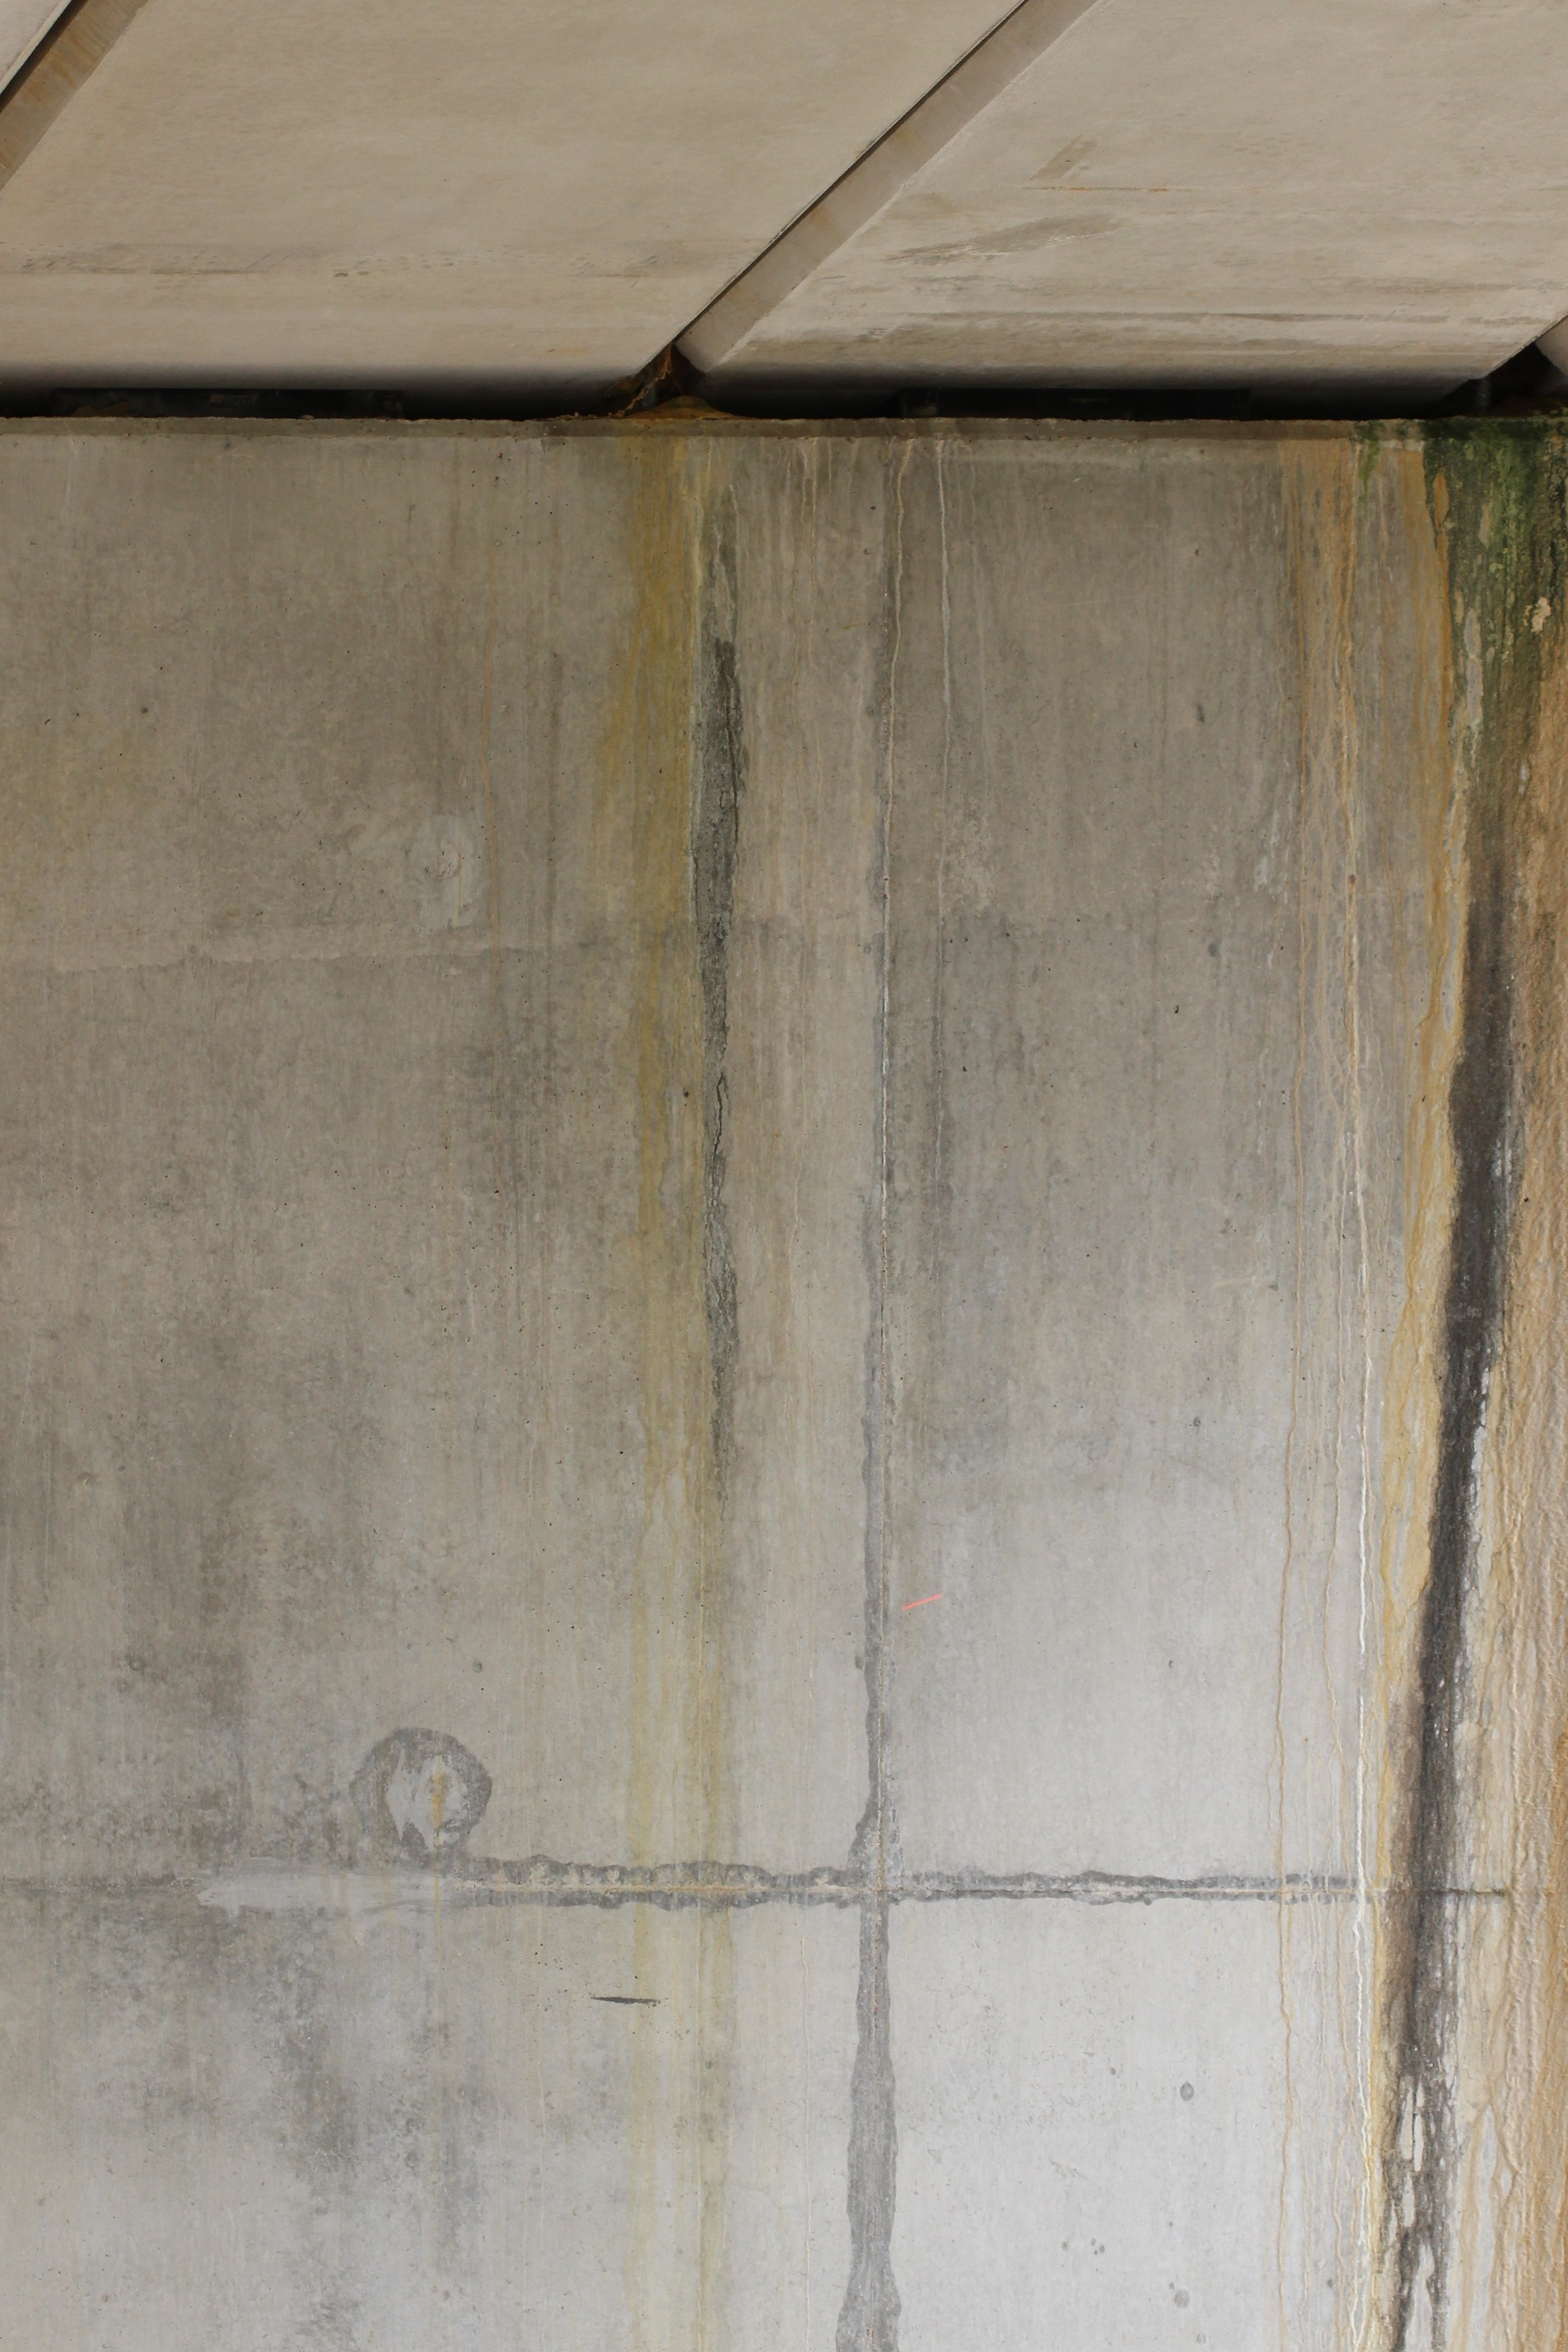defect: (1241, 416, 1568, 2352), (544, 388, 817, 1529)
